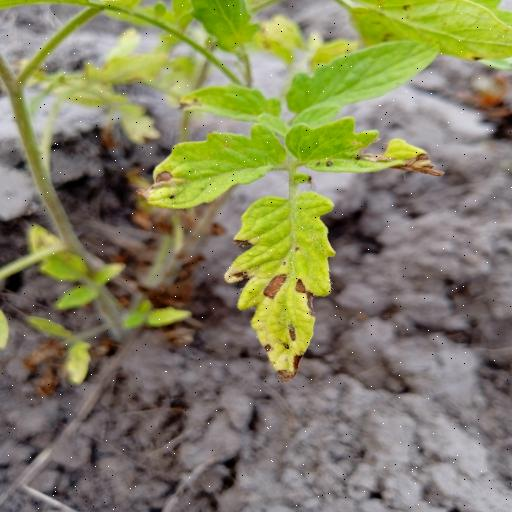Tomato_Brown_Spots: (220, 186, 342, 383), (144, 122, 300, 208), (286, 36, 443, 118), (279, 114, 452, 174)
